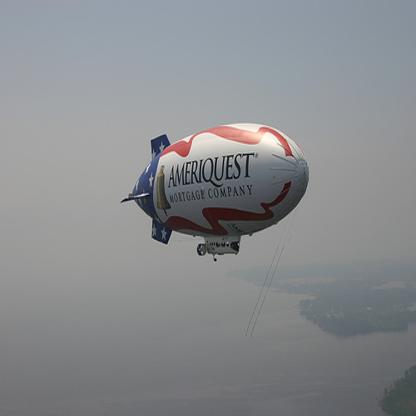Airship: (113, 118, 330, 270)
